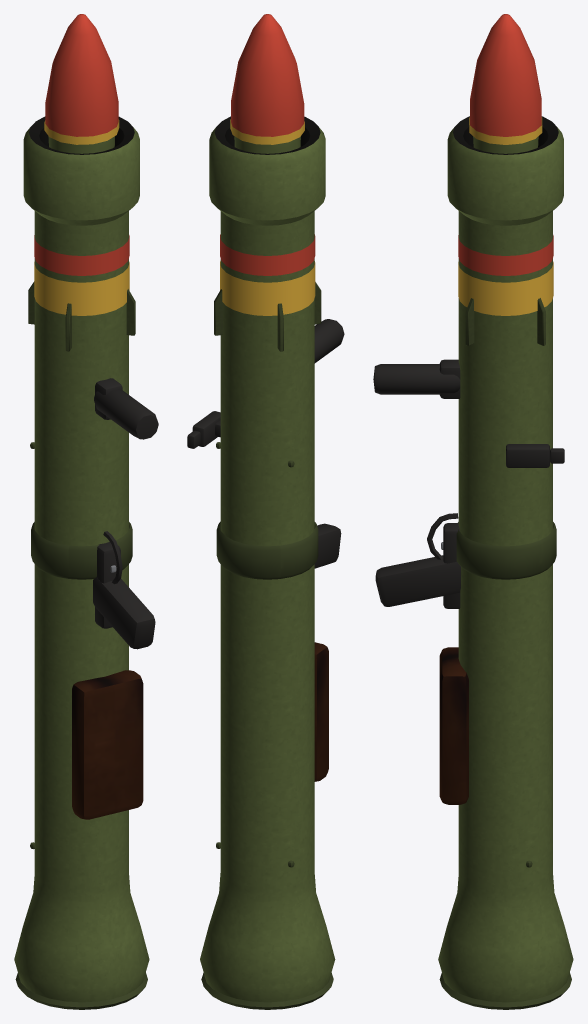
The model's file is bazooka.glb.
The picture shows the model from 3 angles, left to right: view 1: azimuth 30°, elevation 25°; view 2: azimuth 150°, elevation 25°; view 3: azimuth 270°, elevation 25°; orthographic projection.
Parts seen in each view (by area): view 1: bazooka, rocket; view 2: bazooka, rocket; view 3: bazooka, rocket.
Boxes of the visible parts, x1,y1,x2,y2 form: bazooka: (14,116,158,1009); rocket: (28,14,135,351); bazooka: (187,116,344,1009); rocket: (214,14,321,351); bazooka: (373,116,573,1009); rocket: (465,14,545,345).
Bounding box in the file's own units: 0.184 × 1.45 × 0.272.
8 materials, 4 textured.
